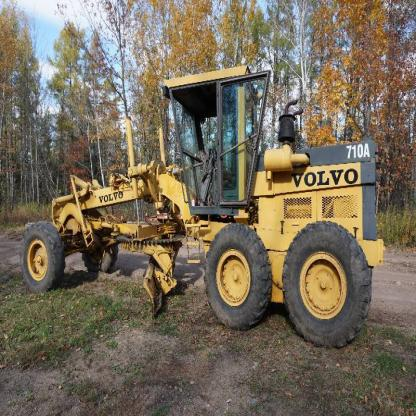bull_dozer/loader/grader: (18, 59, 384, 350)
